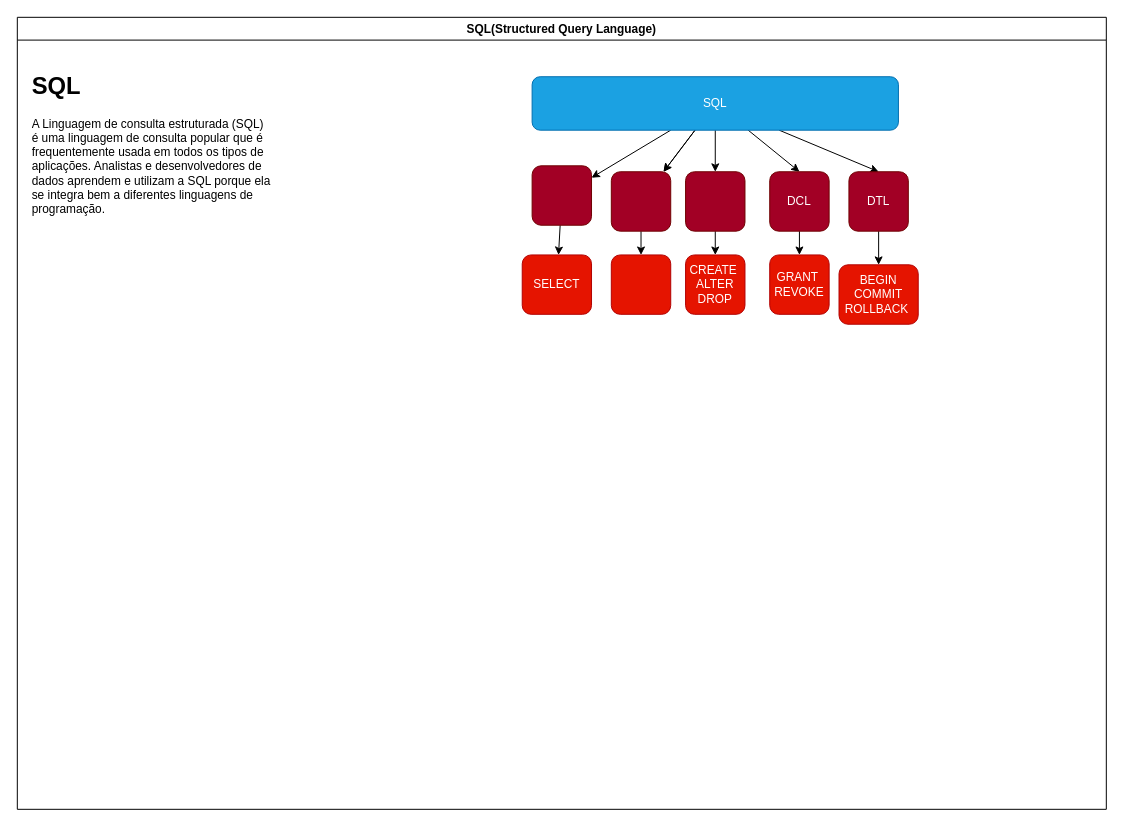
This 1124x827 diagram has some shape labels left out. The box of each missing label's shape, as (x1, y1, x2, y2) in pixels:
DDL: (685, 171, 745, 231)
DML: (610, 171, 671, 231)
DQL: (531, 165, 592, 225)
INSERT UPDATE DELETE: (610, 254, 671, 314)
